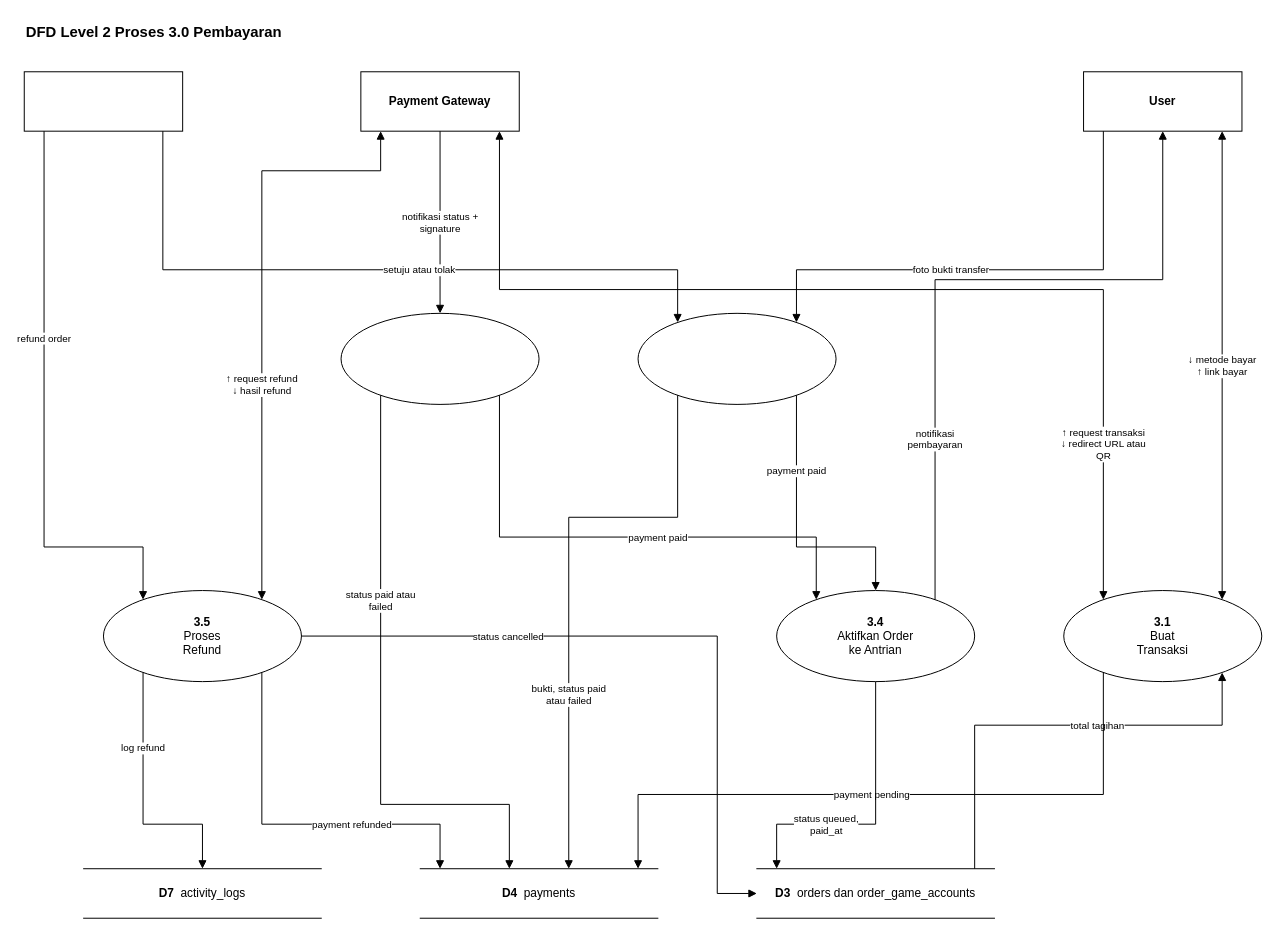
Image size: 1279x936. Some labels were removed from this diagram. The centre of each missing label's shape, as x and y in pixels:
"3.2 Terima Webhook Gateway" goes at [439,358].
"3.3 Upload dan Verifikasi Bukti Manual" goes at [736,358].
"Admin / Owner" goes at [103,101].
